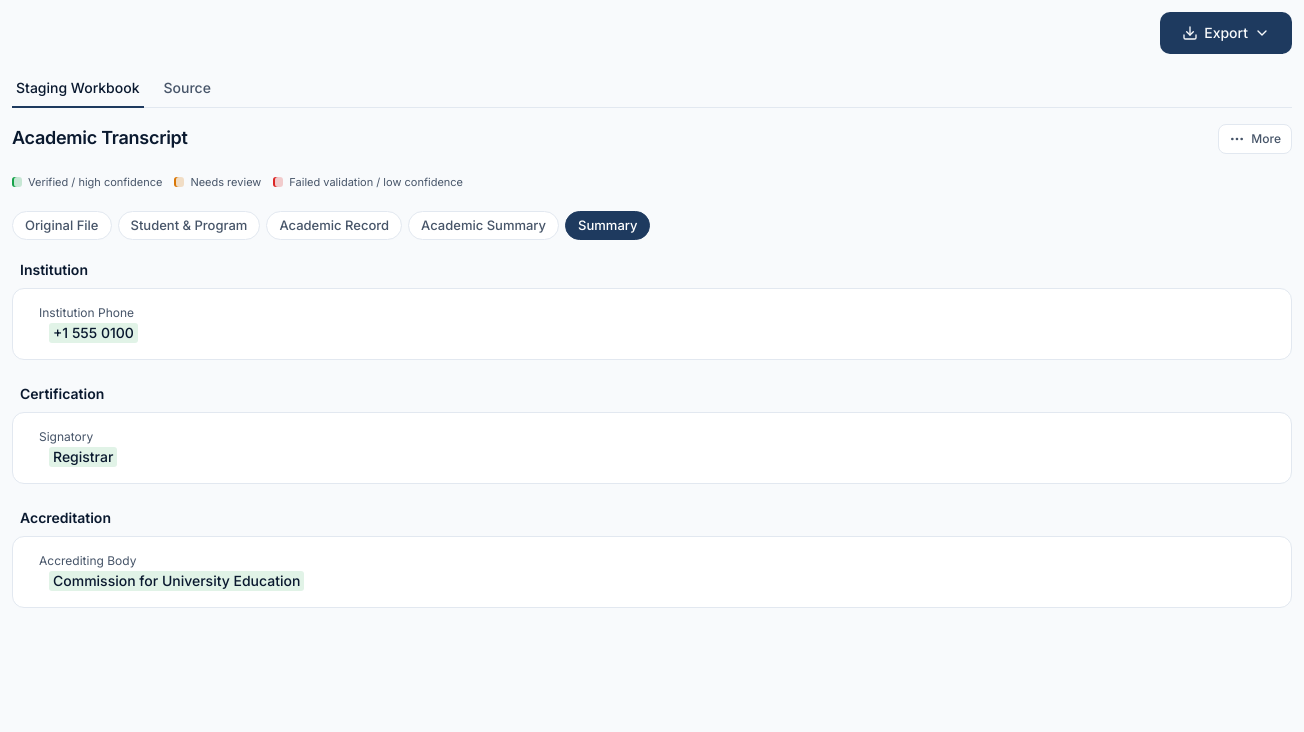
Academic transcript presentation › collects summary values, including those routed from other information
Click the tab "Academic Summary" at {"x": 484, "y": 225}, box [408, 210, 559, 240]
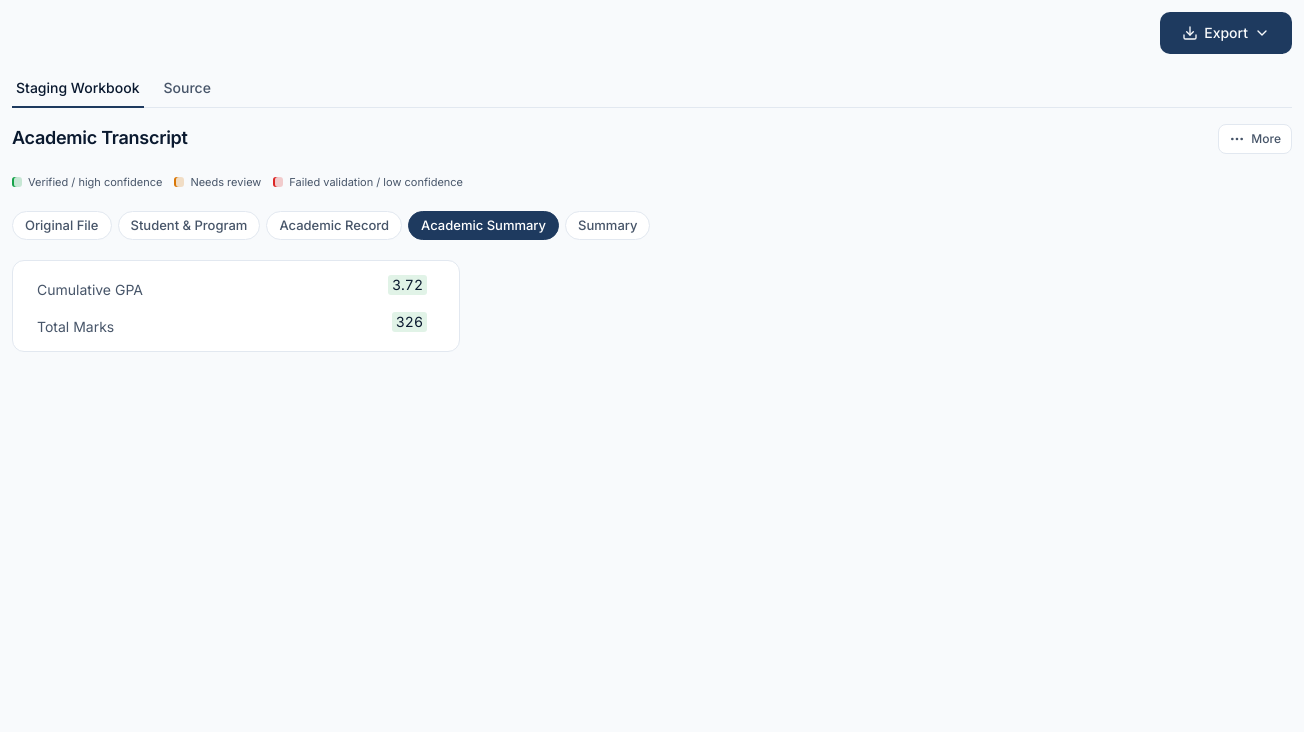
Check: the text "Cumulative GPA" is shown, box [29, 280, 143, 300]
Check: the text "Total Marks" is shown, box [29, 317, 114, 337]
